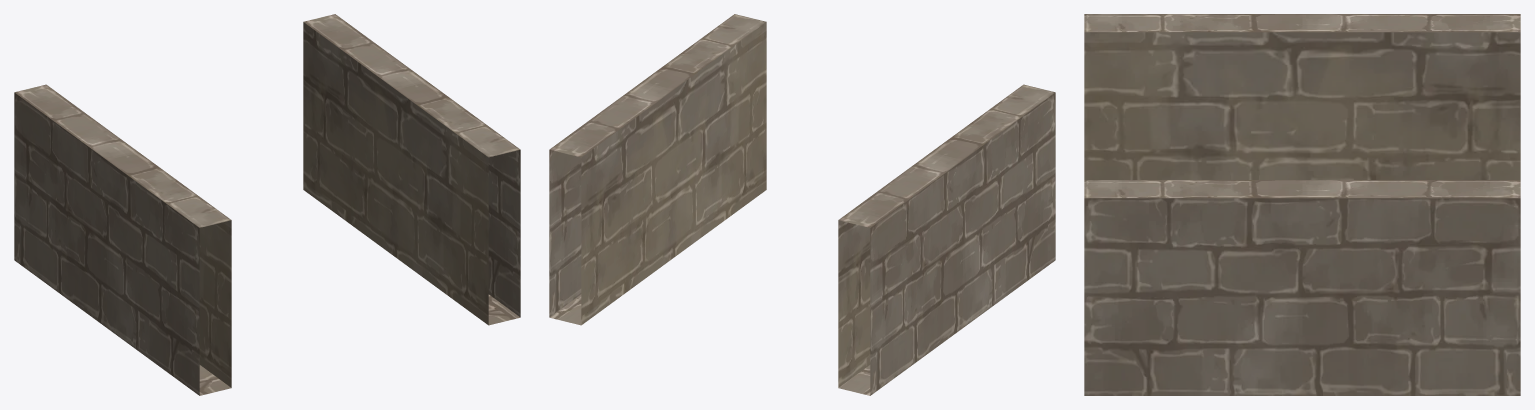
File: stairs_exterior_sides.glb
3 renders of one model, left to right at view 1: azimuth 30°, elevation 25°; view 2: azimuth 150°, elevation 25°; view 3: azimuth 270°, elevation 25°, orthographic. The views are drawn at different scales.
Bounding box in the file's own units: 2 × 0.9999 × 2.
1 material, 1 textured.
